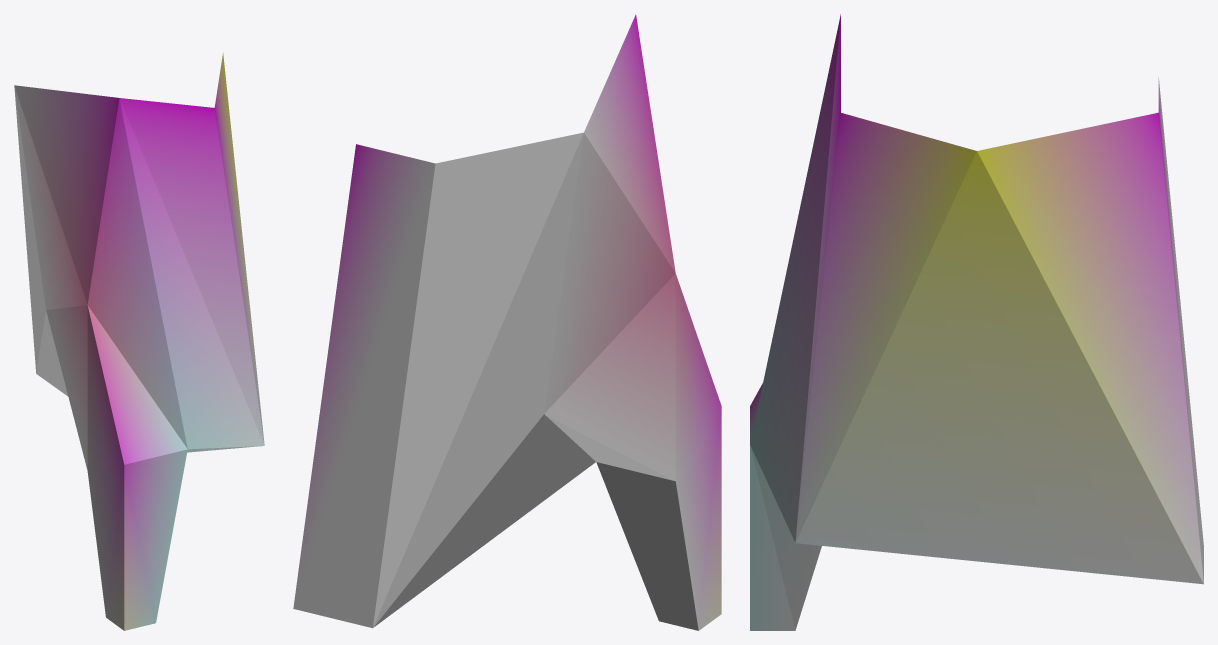
3 views of the same model, side by side, from view 1: azimuth 30°, elevation 25°; view 2: azimuth 150°, elevation 25°; view 3: azimuth 270°, elevation 25° (orthographic). The views are drawn at different scales.
Visible parts, largest first — view 1: model_1175; view 2: model_1175; view 3: model_1175.
Part boxes in pixels (<box>): model_1175: <box>14,52,264,630</box>; model_1175: <box>293,14,721,630</box>; model_1175: <box>750,14,1203,630</box>.
Size of the model in its own units: 6 by 15 by 10.
